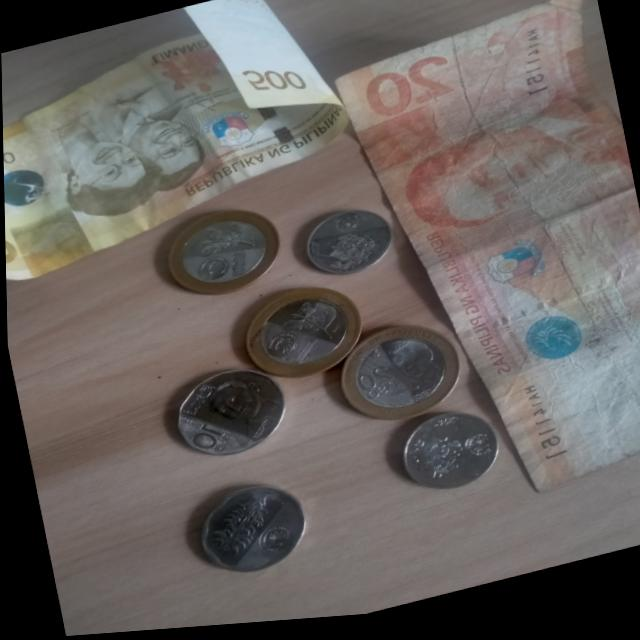10_New_Front: (186, 419, 229, 460)
5_New_Back: (192, 484, 284, 570)
